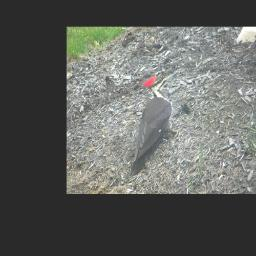Woodpecker: (126, 70, 182, 176)
